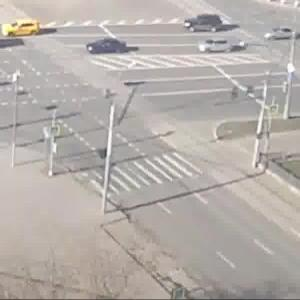car: (87, 35, 140, 54), (185, 12, 227, 34), (194, 37, 242, 54), (1, 16, 41, 35), (260, 27, 300, 43)
